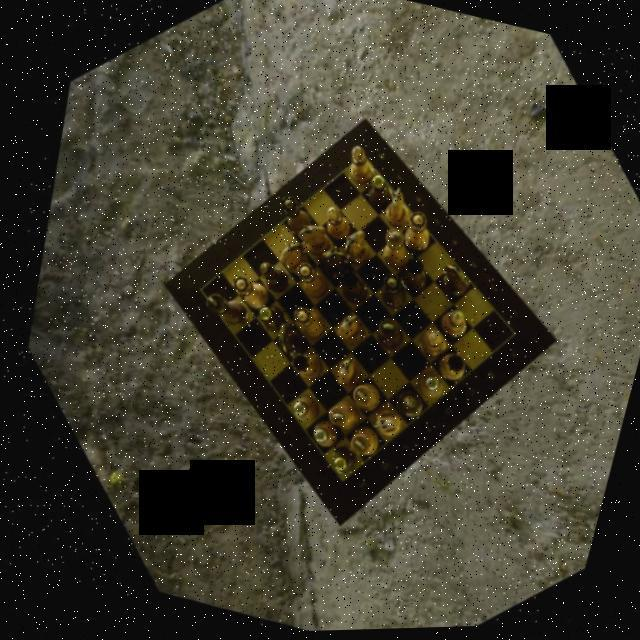chess-table-corners: (173, 271, 220, 317), (310, 458, 354, 502), (482, 314, 526, 358), (338, 138, 376, 178)
